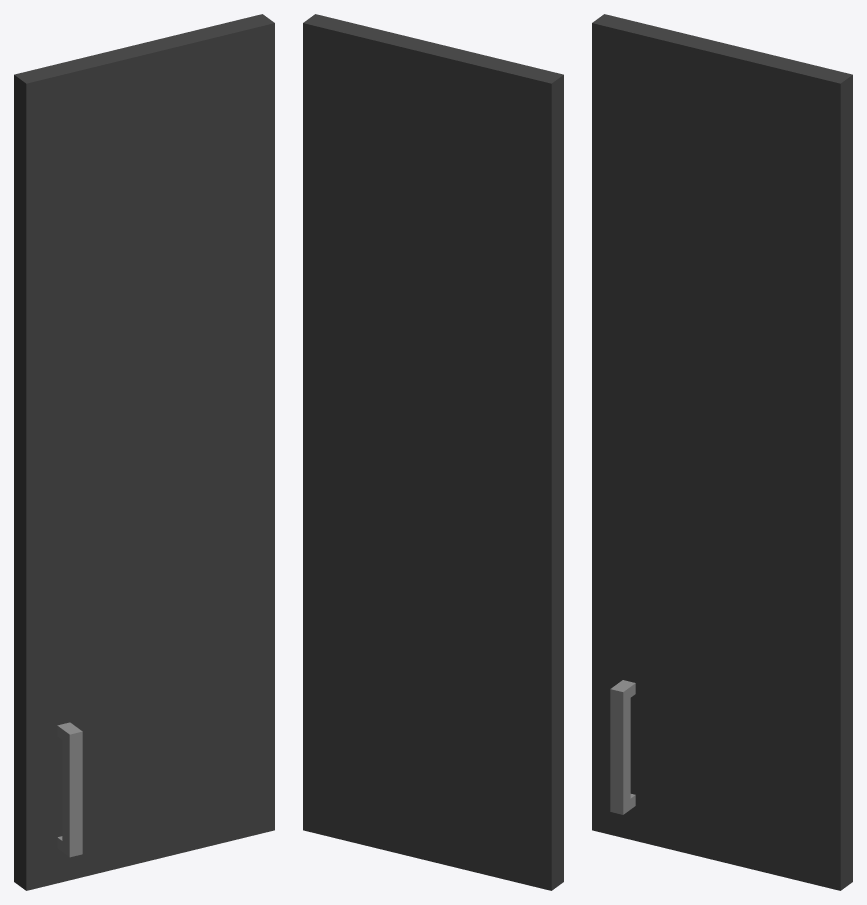
File: Door1_C3_13.fbx
3 views of the same model, side by side, from view 1: azimuth 30°, elevation 25°; view 2: azimuth 150°, elevation 25°; view 3: azimuth 330°, elevation 25° (orthographic).
Parts seen in each view (by area): view 1: Door1_C3_13; view 2: Door1_C3_13; view 3: Door1_C3_13.
Boxes of the visible parts, <box> form: Door1_C3_13: <box>14,14,274,890</box>; Door1_C3_13: <box>303,14,563,890</box>; Door1_C3_13: <box>592,14,852,890</box>.
Size of the model in its own units: 29 by 90 by 5.03.
